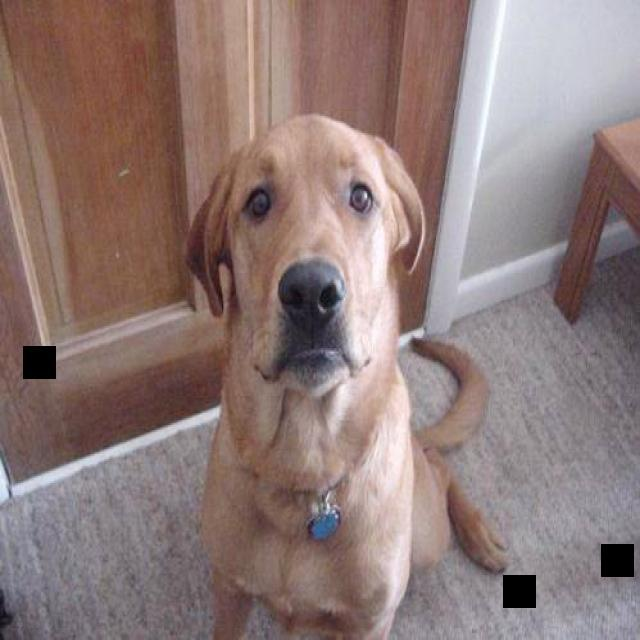adult_dog: (191, 119, 512, 638)
